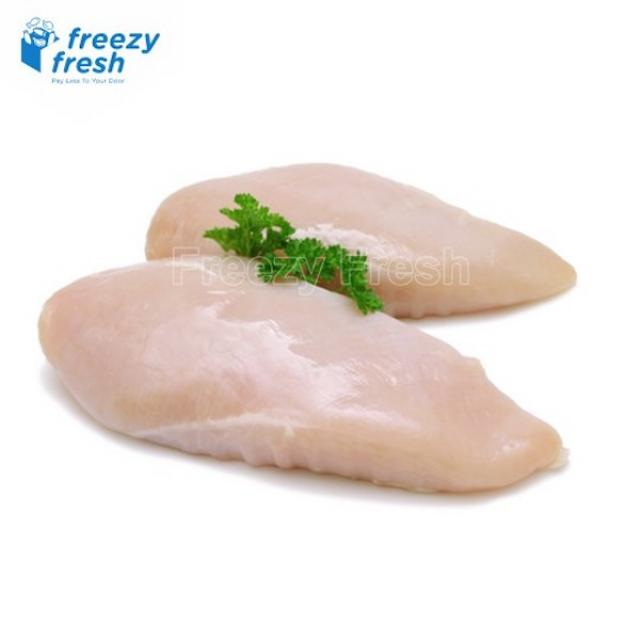chicken: (38, 262, 564, 493), (151, 166, 577, 309)
